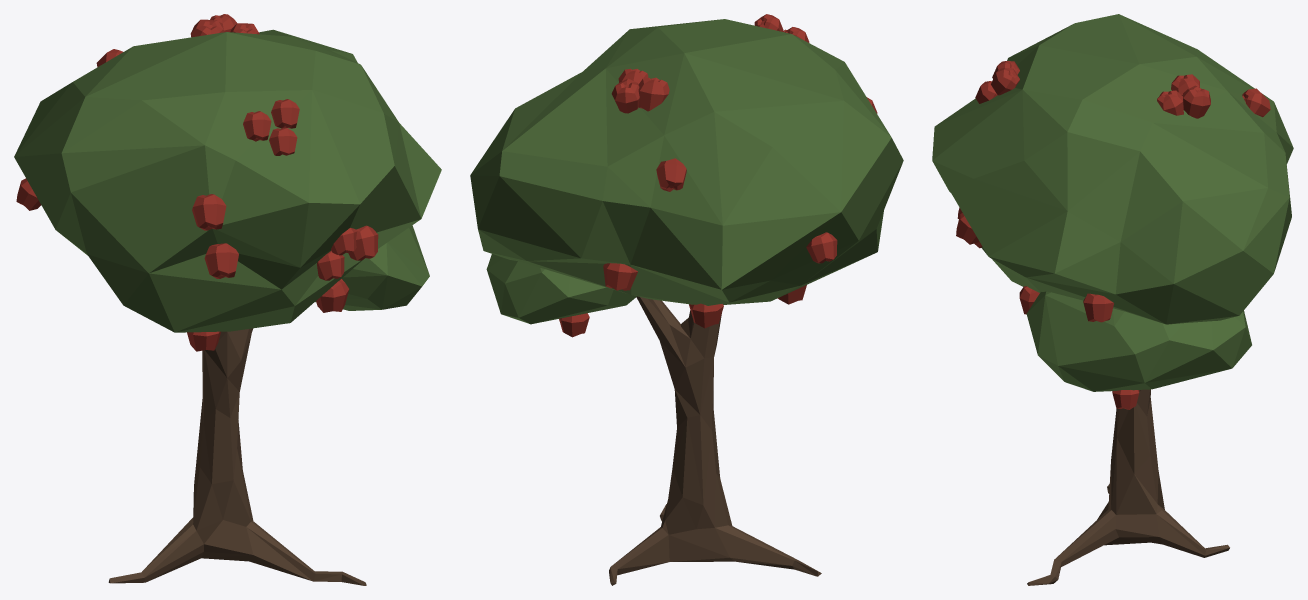
File: SM_Envr_Nature_Farm_Tree_Apple_Mature.fbx
3 renders of one model, left to right at view 1: azimuth 30°, elevation 25°; view 2: azimuth 150°, elevation 25°; view 3: azimuth 270°, elevation 25°, orthographic. The views are drawn at different scales.
Parts seen in each view (by area): view 1: SM_Envr_Nature_Farm_Tree_Apple_Mature; view 2: SM_Envr_Nature_Farm_Tree_Apple_Mature; view 3: SM_Envr_Nature_Farm_Tree_Apple_Mature.
Boxes of the visible parts, bbox=[...] form: SM_Envr_Nature_Farm_Tree_Apple_Mature: bbox=[14, 14, 441, 585]; SM_Envr_Nature_Farm_Tree_Apple_Mature: bbox=[470, 14, 903, 585]; SM_Envr_Nature_Farm_Tree_Apple_Mature: bbox=[932, 14, 1293, 585].
Bounding box in the file's own units: 473 × 644 × 432.
